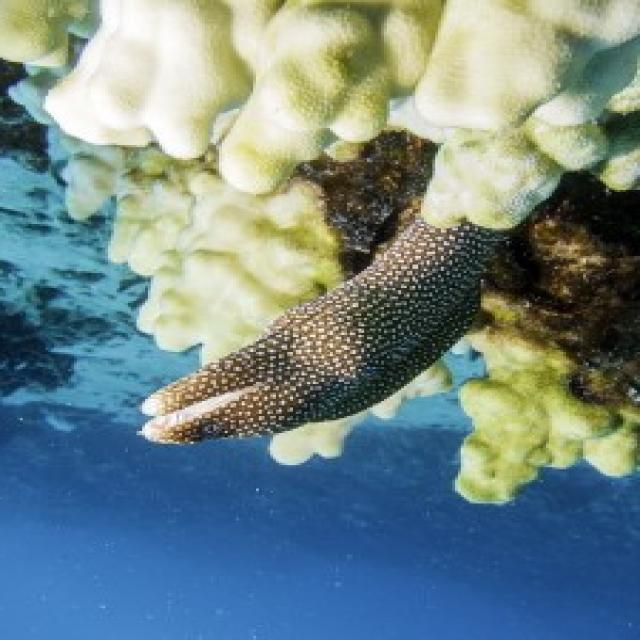Bleached: (68, 192, 446, 468), (1, 1, 399, 189), (399, 1, 640, 231), (449, 289, 640, 504)
